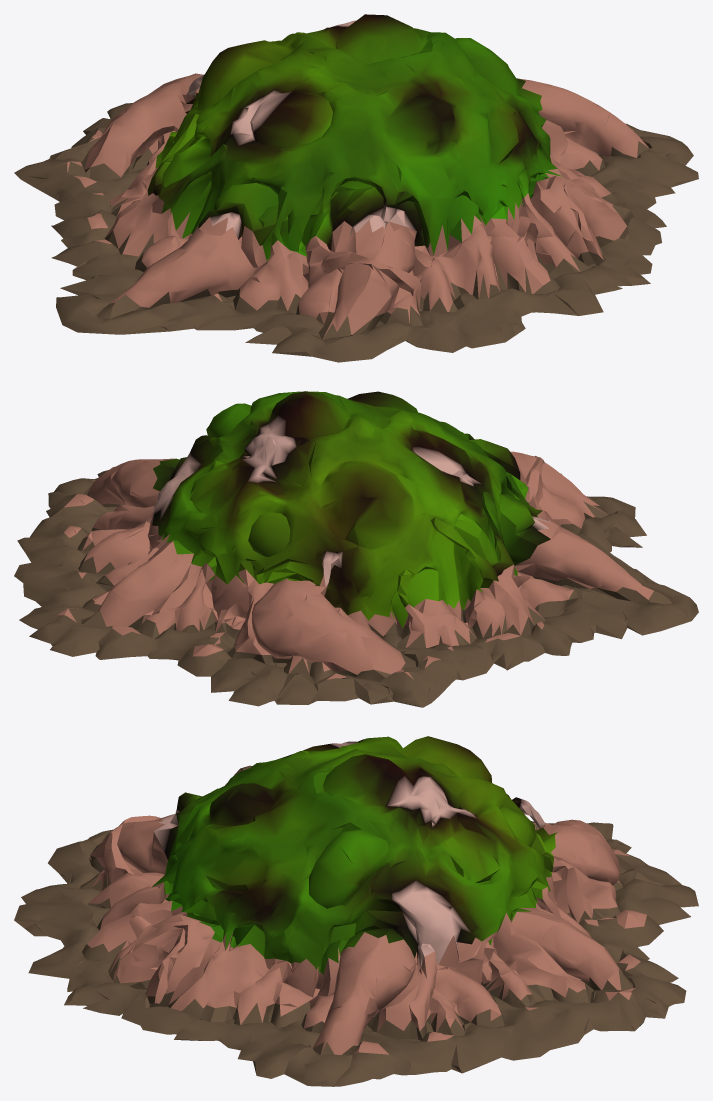
Rendered from biter-spawner.glb.
3 views of the same model, one above another, from view 1: azimuth 30°, elevation 25°; view 2: azimuth 150°, elevation 25°; view 3: azimuth 270°, elevation 25° (orthographic). The views are drawn at different scales.
Parts seen in each view (by area): view 1: body; view 2: body; view 3: body.
Boxes of the visible parts, left/top/right/bottom form: body: left=14, top=14, right=698, bottom=362; body: left=14, top=391, right=698, bottom=707; body: left=14, top=736, right=698, bottom=1086.
Size of the model in its own units: 6.63 by 1.81 by 5.99.
